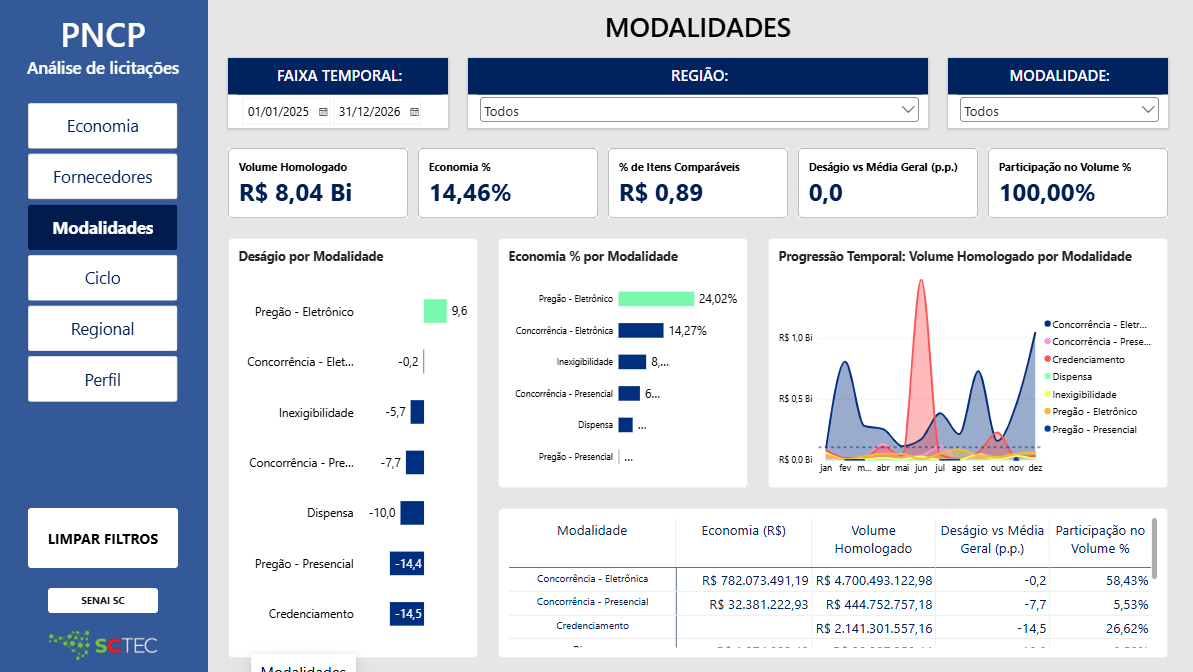

The dashboard page shown, as its layout file describes it:
{"tool":"powerbi","page":{"name":"Modalidades","canvas":[1920,1080],"ordinal":2},"visuals":[{"type":"slicer","title":"FAIXA TEMPORAL:","fields":{"Values":["dCalendario.Date"]},"box":[368,96,352,112],"z":0},{"type":"textbox","box":[0,-8,336,1088],"z":1000},{"type":"image","box":[80,1008,176,56],"z":2000},{"type":"textbox","box":[368,16,1504,64],"z":3000},{"type":"slicer","title":"REGIÃO:","fields":{"Values":["dim_localidade.regiao"]},"box":[752,96,736,112],"z":4000},{"type":"cardVisual","fields":{"Data":["_medidas.% de Itens Comparáveis"]},"box":[976,240,288,112],"z":5000},{"type":"cardVisual","fields":{"Data":["_medidas.Volume Homologado"]},"box":[368,240,288,112],"z":6000},{"type":"cardVisual","fields":{"Data":["_medidas.Participação no Volume %"]},"box":[1584,240,288,112],"z":7000},{"type":"clusteredBarChart","title":"Deságio por Modalidade","fields":{"Category":["dim_modalidade.nome_modalidade"],"Y":["_medidas.Deságio vs Média Geral (p.p.)"]},"box":[368,384,400,672],"z":8000},{"type":"pivotTable","fields":{"Rows":["dim_modalidade.nome_modalidade"],"Values":["_medidas.Economia (R$)","_medidas.Volume Homologado","_medidas.Deságio vs Média Geral (p.p.)","_medidas.Participação no Volume %"]},"box":[800,816,1072,240],"z":9000},{"type":"cardVisual","fields":{"Data":["_medidas.Economia %"]},"box":[672,240,288,112],"z":10000},{"type":"slicer","title":"MODALIDADE:","fields":{"Values":["dim_modalidade.nome_modalidade"]},"box":[1520,96,352,112],"z":11000},{"type":"areaChart","title":"Progressão Temporal: Volume Homologado por Modalidade","fields":{"Category":["dCalendario.NomeMes"],"Series":["dim_modalidade.nome_modalidade"],"Y":["_medidas.Volume Homologado"]},"box":[1232,384,640,400],"z":12000},{"type":"cardVisual","fields":{"Data":["_medidas.Deságio vs Média Geral (p.p.)"]},"box":[1280,240,288,112],"z":13000},{"type":"clusteredBarChart","title":"Economia % por Modalidade","fields":{"Category":["dim_modalidade.nome_modalidade"],"Y":["_medidas.Economia %"]},"box":[800,384,400,400],"z":14000},{"type":"pageNavigator","box":[48,168,240,480],"z":15000},{"type":"actionButton","box":[48,816,240,96],"z":16000},{"type":"actionButton","box":[80,944,176,40],"z":17000}]}

Visuals, with their boxes on the page's 1920x1080 design canvas (x1, y1, x2, y2). These are canvas units, not pixel positions in the 1193x672 screenshot, which may show the page scaled, cropped or inside an application window:
"FAIXA TEMPORAL:" slicer: {"left": 368, "top": 96, "right": 720, "bottom": 208}
textbox: {"left": 0, "top": -8, "right": 336, "bottom": 1080}
image: {"left": 80, "top": 1008, "right": 256, "bottom": 1064}
textbox: {"left": 368, "top": 16, "right": 1872, "bottom": 80}
"REGIÃO:" slicer: {"left": 752, "top": 96, "right": 1488, "bottom": 208}
cardVisual - _medidas.% de Itens Comparáveis: {"left": 976, "top": 240, "right": 1264, "bottom": 352}
cardVisual - _medidas.Volume Homologado: {"left": 368, "top": 240, "right": 656, "bottom": 352}
cardVisual - _medidas.Participação no Volume %: {"left": 1584, "top": 240, "right": 1872, "bottom": 352}
"Deságio por Modalidade" clusteredBarChart: {"left": 368, "top": 384, "right": 768, "bottom": 1056}
pivotTable - dim_modalidade.nome_modalidade x _medidas.Economia (R$): {"left": 800, "top": 816, "right": 1872, "bottom": 1056}
cardVisual - _medidas.Economia %: {"left": 672, "top": 240, "right": 960, "bottom": 352}
"MODALIDADE:" slicer: {"left": 1520, "top": 96, "right": 1872, "bottom": 208}
"Progressão Temporal: Volume Homologado por Modalidade" areaChart: {"left": 1232, "top": 384, "right": 1872, "bottom": 784}
cardVisual - _medidas.Deságio vs Média Geral (p.p.): {"left": 1280, "top": 240, "right": 1568, "bottom": 352}
"Economia % por Modalidade" clusteredBarChart: {"left": 800, "top": 384, "right": 1200, "bottom": 784}
pageNavigator: {"left": 48, "top": 168, "right": 288, "bottom": 648}
actionButton: {"left": 48, "top": 816, "right": 288, "bottom": 912}
actionButton: {"left": 80, "top": 944, "right": 256, "bottom": 984}
